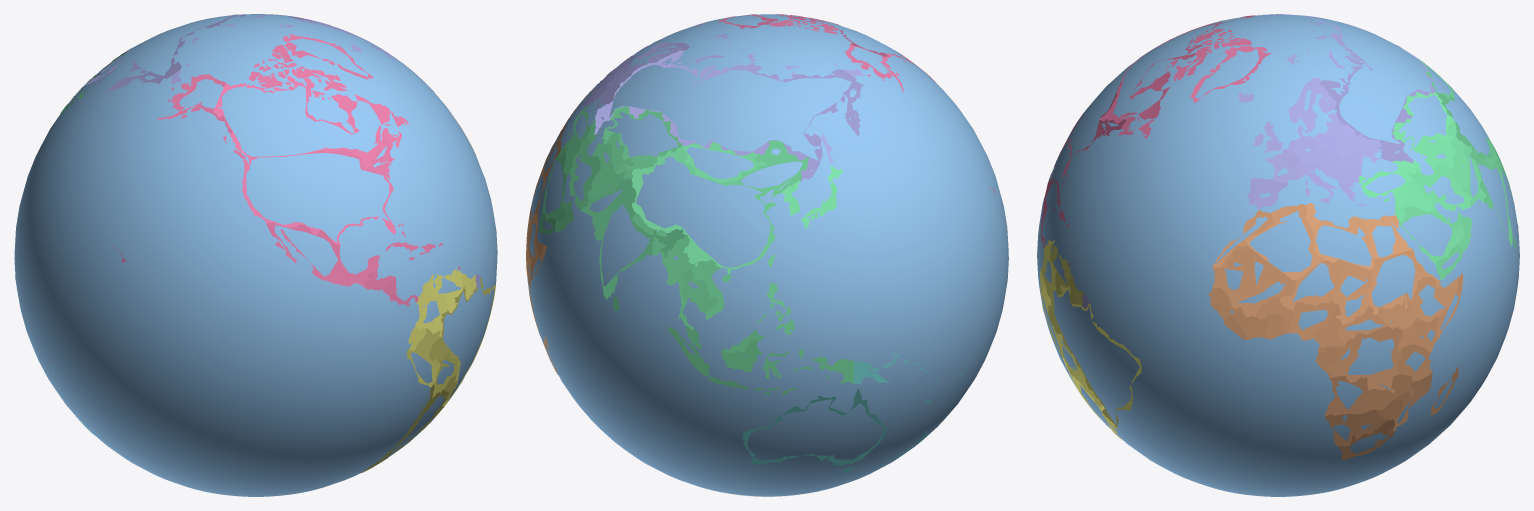
The model's file is globe.glb.
3 renders of one model, left to right at view 1: azimuth 30°, elevation 25°; view 2: azimuth 150°, elevation 25°; view 3: azimuth 270°, elevation 25°, orthographic.
Parts seen in each view (by area): view 1: Globe_Base, Canada, United States.001, Mexico, Russian Federation, Brazil.001, Colombia, Peru, Greenland, Venezuela; view 2: Globe_Base, Russian Federation, China.001, Indonesia, India, Australia.001, Kazakhstan, Myanmar, Iran, Mongolia, Canada, Thailand (+5 smaller); view 3: Globe_Base, Canada, Russian Federation, Democratic Republic of the Congo, Mali, Chad, Mauritania, Brazil.001, Iran, Algeria, Angola, Niger (+26 smaller).
Part boxes in pixels (left/top/right/bottom): Globe_Base: left=14, top=14, right=497, bottom=496; Canada: left=213, top=45, right=408, bottom=170; United States.001: left=113, top=74, right=395, bottom=262; Mexico: left=266, top=222, right=379, bottom=287; Russian Federation: left=86, top=14, right=308, bottom=92; Brazil.001: left=428, top=277, right=495, bottom=410; Colombia: left=415, top=274, right=449, bottom=336; Peru: left=406, top=328, right=440, bottom=387; Greenland: left=282, top=34, right=373, bottom=79; Venezuela: left=430, top=268, right=463, bottom=312; Globe_Base: left=527, top=14, right=1008, bottom=496; Russian Federation: left=594, top=44, right=863, bottom=182; China.001: left=631, top=140, right=808, bottom=282; Indonesia: left=667, top=327, right=853, bottom=394; India: left=594, top=189, right=685, bottom=299; Australia.001: left=742, top=389, right=886, bottom=472; Kazakhstan: left=601, top=106, right=682, bottom=165; Myanmar: left=663, top=235, right=695, bottom=310; Iran: left=569, top=135, right=600, bottom=210; Mongolia: left=683, top=141, right=766, bottom=183; Canada: left=769, top=14, right=911, bottom=62; Thailand: left=678, top=269, right=709, bottom=329; Globe_Base: left=1037, top=14, right=1519, bottom=496; Canada: left=1099, top=22, right=1251, bottom=138; Russian Federation: left=1263, top=14, right=1435, bottom=163; Democratic Republic of the Congo: left=1329, top=326, right=1402, bottom=392; Mali: left=1229, top=255, right=1295, bottom=316; Chad: left=1333, top=259, right=1372, bottom=324; Mauritania: left=1212, top=245, right=1258, bottom=296; Brazil.001: left=1048, top=283, right=1141, bottom=427; Iran: left=1408, top=164, right=1471, bottom=210; Algeria: left=1246, top=204, right=1324, bottom=280; Angola: left=1325, top=372, right=1374, bottom=416; Niger: left=1279, top=260, right=1340, bottom=310.
Size of the model in its own units: 20 by 20.01 by 20.
